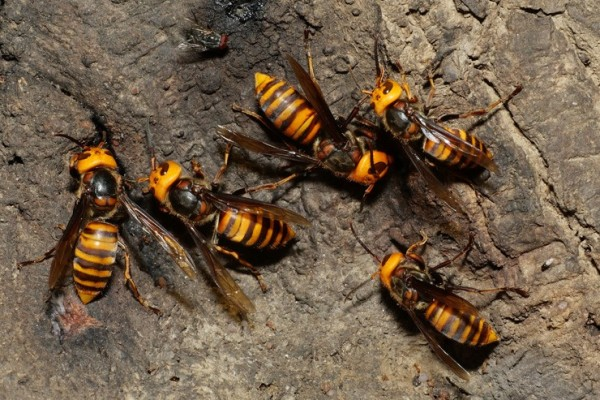asian_giant_hornet: (252, 69, 396, 203), (137, 152, 299, 262), (48, 132, 134, 307), (359, 68, 494, 172), (369, 245, 504, 347)
